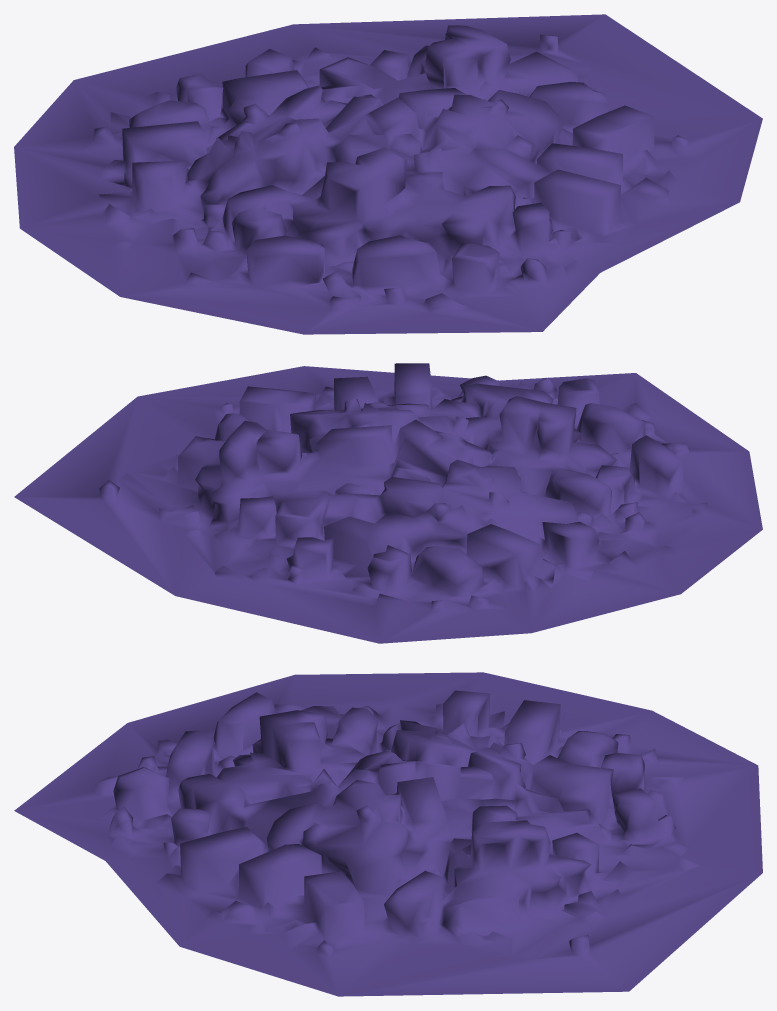
Rendered from DBK_Cinderblock_Rubble_B.fbx.
3 views of the same model, one above another, from view 1: azimuth 30°, elevation 25°; view 2: azimuth 150°, elevation 25°; view 3: azimuth 270°, elevation 25° (orthographic). The views are drawn at different scales.
Parts seen in each view (by area): view 1: DBK_Cinderblock_Rubble_B; view 2: DBK_Cinderblock_Rubble_B; view 3: DBK_Cinderblock_Rubble_B.
Part boxes in pixels (bbox=[...]): DBK_Cinderblock_Rubble_B: bbox=[14, 14, 762, 334]; DBK_Cinderblock_Rubble_B: bbox=[14, 363, 762, 643]; DBK_Cinderblock_Rubble_B: bbox=[14, 672, 762, 996].
Bounding box in the file's own units: 399 × 43.98 × 389.
